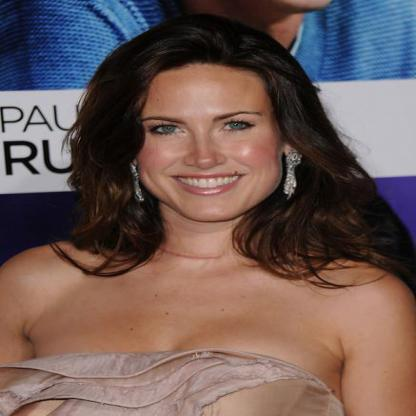long-hair: (58, 219, 368, 278)
